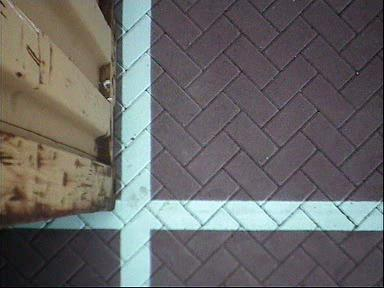groundmarker_2: (115, 171, 143, 228)
